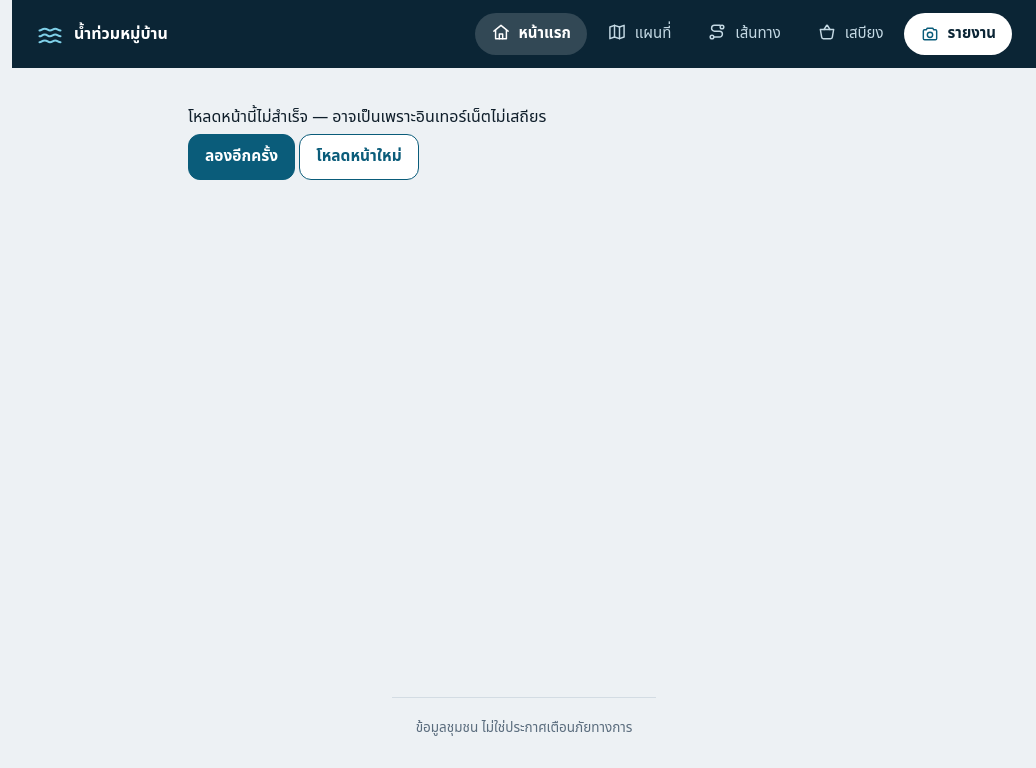
resets the boundary on navigation so another tab renders
Expected: the text "โหลดหน้านี้ไม่สำเร็จ — อาจเป็นเพราะอินเทอร์เน็ตไม่เสถียร" is shown, x1=188 y1=105 x2=546 y2=129
Expected: the text "ข้อมูลชุมชน ไม่ใช่ประกาศเตือนภัยทางการ" is shown, x1=392 y1=697 x2=656 y2=767
Click the link "รายงาน": (958,34) x1=904 y1=13 x2=1012 y2=55
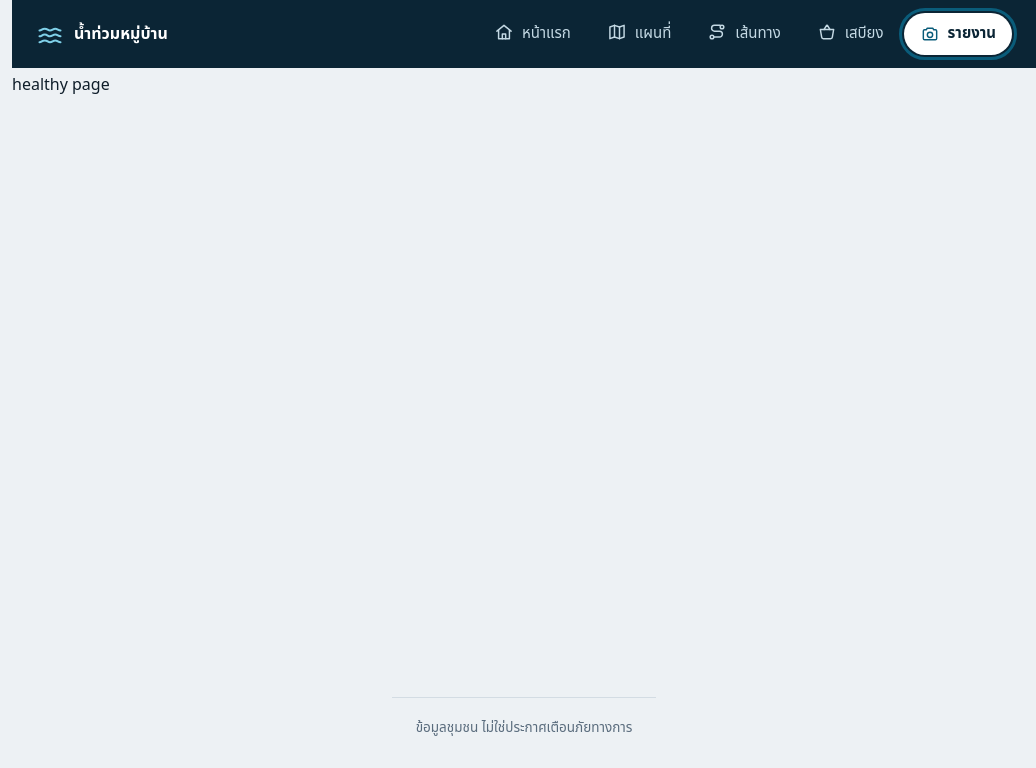
Expected: the text "ข้อมูลชุมชน ไม่ใช่ประกาศเตือนภัยทางการ" is shown, x1=392 y1=697 x2=656 y2=767
Now the text "healthy page" is shown, box x1=12 y1=73 x2=110 y2=97
Now the text "โหลดหน้านี้ไม่สำเร็จ — อาจเป็นเพราะอินเทอร์เน็ตไม่เสถียร" is gone
